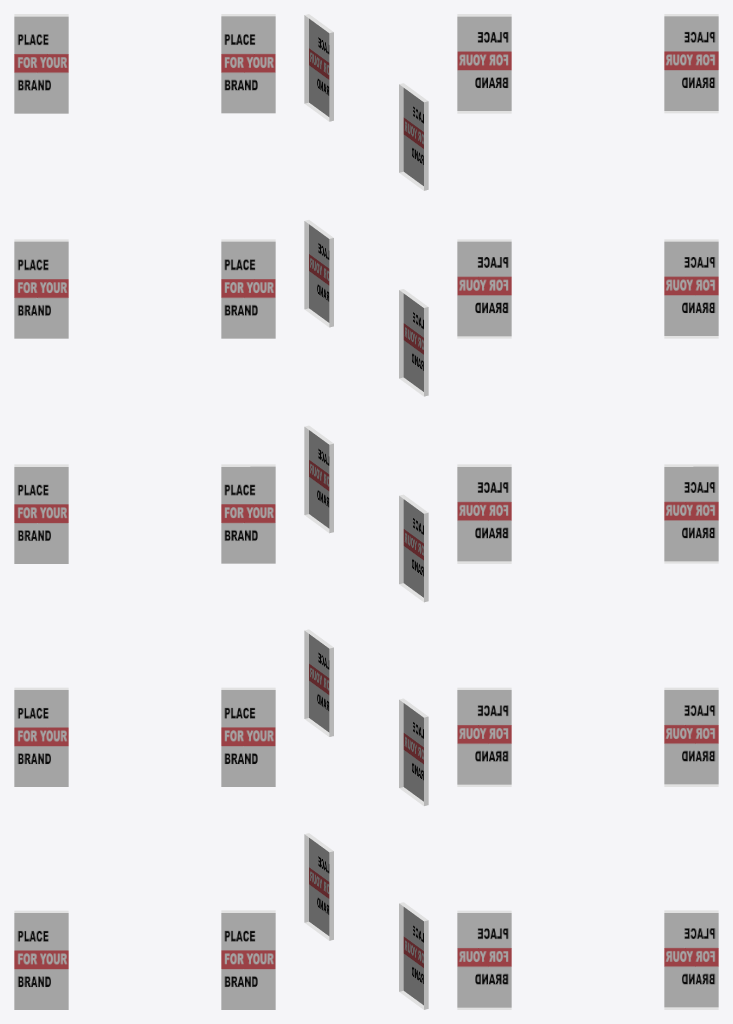
Rendered from AdvertisingPlacejolder_Okex1.glb.
3 renders of one model, left to right at view 1: azimuth 90°, elevation 25°; view 2: azimuth 210°, elevation 25°; view 3: azimuth 270°, elevation 25°, orthographic. The views are drawn at different scales.
Visible parts, largest first — view 1: Predeterminada; view 2: Predeterminada; view 3: Predeterminada.
Part boxes in pixels (x1=…): Predeterminada: x1=14, y1=14, x2=275, y2=1009; Predeterminada: x1=304, y1=14, x2=428, y2=1009; Predeterminada: x1=457, y1=14, x2=718, y2=1009.
Bounding box in the file's own units: 0.2483 × 44.55 × 10.61.
1 material, 1 textured.
